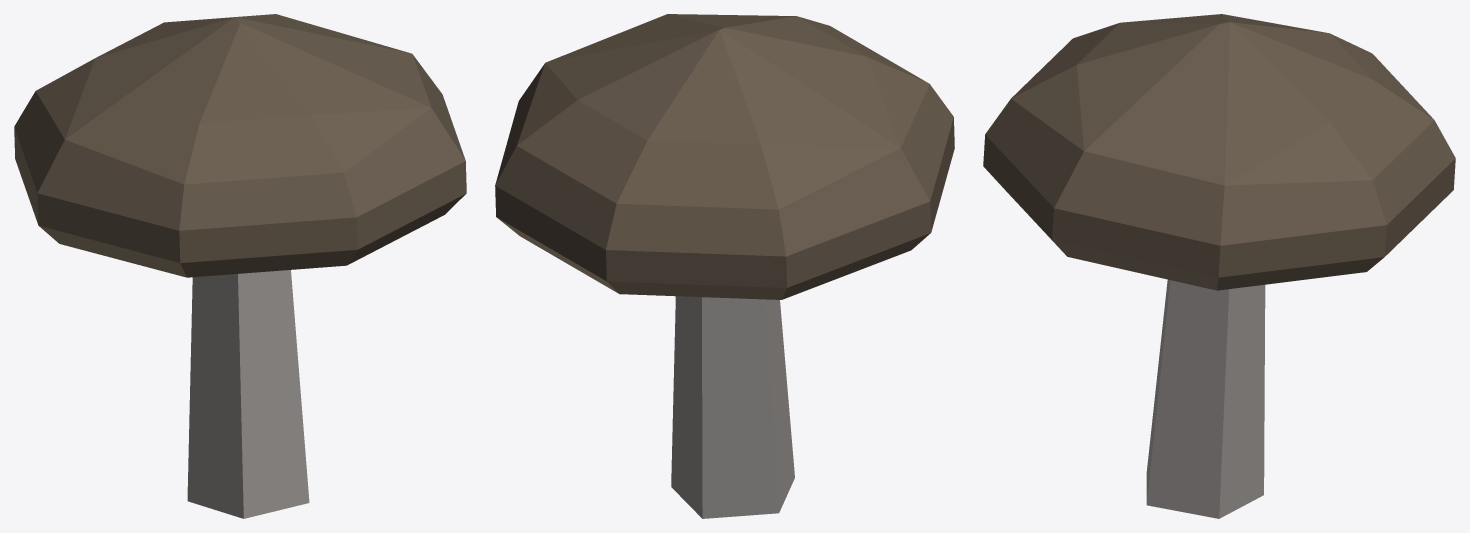
The model's file is SM_Envr_Nature_Plant_Mushroom_01.fbx.
3 renders of one model, left to right at view 1: azimuth 30°, elevation 25°; view 2: azimuth 150°, elevation 25°; view 3: azimuth 270°, elevation 25°, orthographic.
Parts seen in each view (by area): view 1: SM_Envr_Nature_Plant_Mushroom_01; view 2: SM_Envr_Nature_Plant_Mushroom_01; view 3: SM_Envr_Nature_Plant_Mushroom_01.
Boxes of the visible parts, x1=… form: SM_Envr_Nature_Plant_Mushroom_01: x1=14, y1=14, x2=466, y2=518; SM_Envr_Nature_Plant_Mushroom_01: x1=495, y1=14, x2=954, y2=518; SM_Envr_Nature_Plant_Mushroom_01: x1=983, y1=14, x2=1455, y2=518.
Size of the model in its own units: 33.84 by 37.46 by 33.93.
